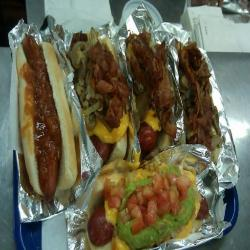hotdog: (13, 45, 82, 198), (88, 168, 223, 243), (64, 29, 133, 175), (120, 30, 183, 177), (170, 44, 236, 182)
